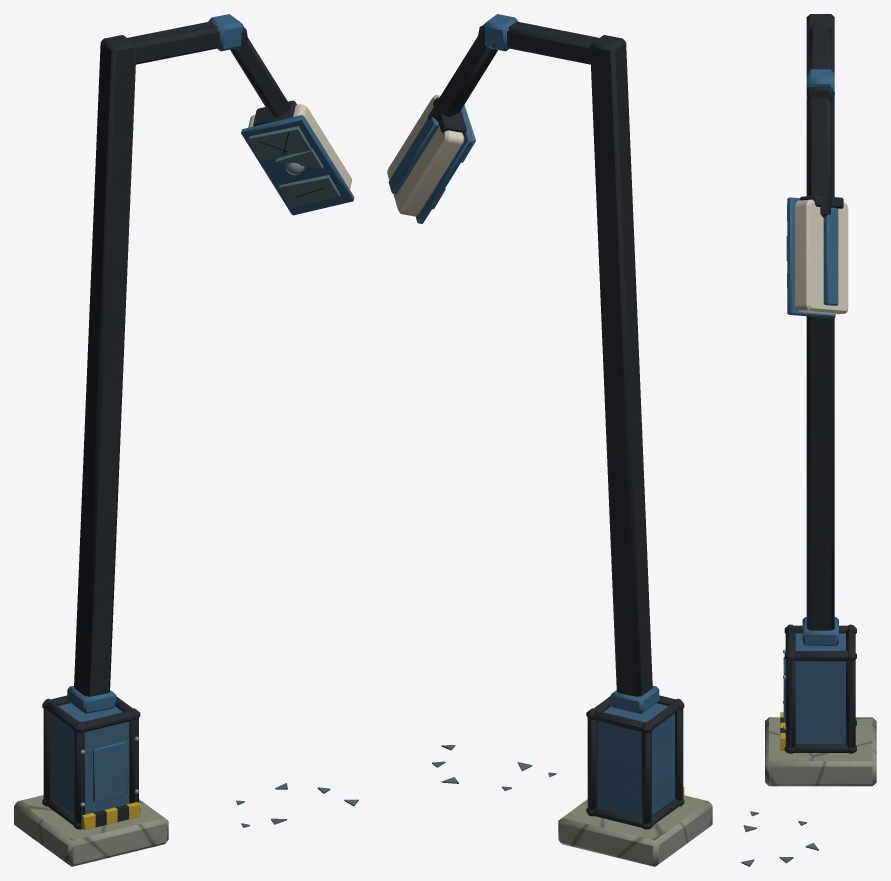
The model's file is street_lamp_broken.glb.
3 renders of one model, left to right at view 1: azimuth 30°, elevation 25°; view 2: azimuth 150°, elevation 25°; view 3: azimuth 270°, elevation 25°, orthographic. The views are drawn at different scales.
Visible parts, largest first — view 1: street_lamp_broken; view 2: street_lamp_broken; view 3: street_lamp_broken.
Boxes of the visible parts, bbox=[...] form: street_lamp_broken: bbox=[14, 14, 358, 866]; street_lamp_broken: bbox=[387, 14, 712, 866]; street_lamp_broken: bbox=[741, 14, 876, 866].
Bounding box in the file's own units: 2.41 × 5.99 × 0.9684.
12 materials, 12 textured.
